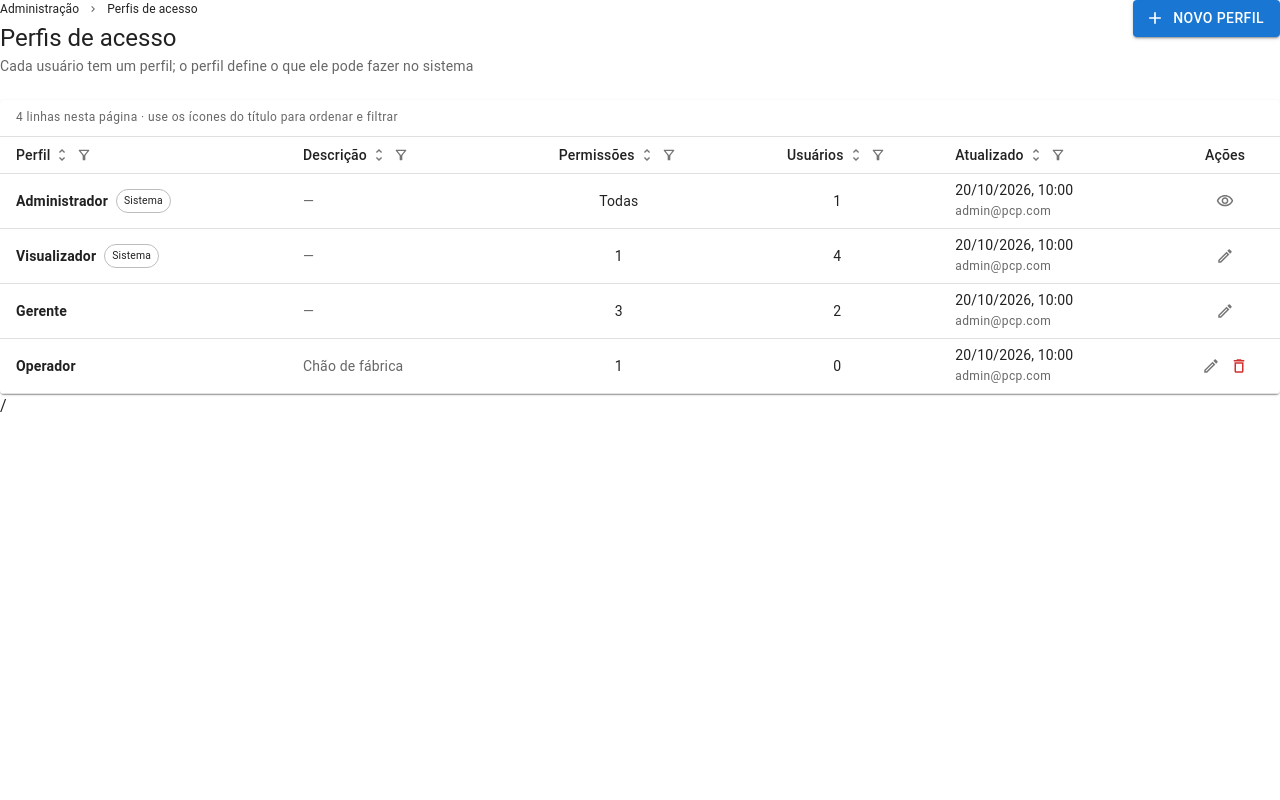
PerfisAcessoPage › o Administrador abre só para leitura, com aviso, sem botão de salvar
Step 1. Click the button named "Ver perfil Administrador" → click(1225, 201), box [1211,187,1239,215]
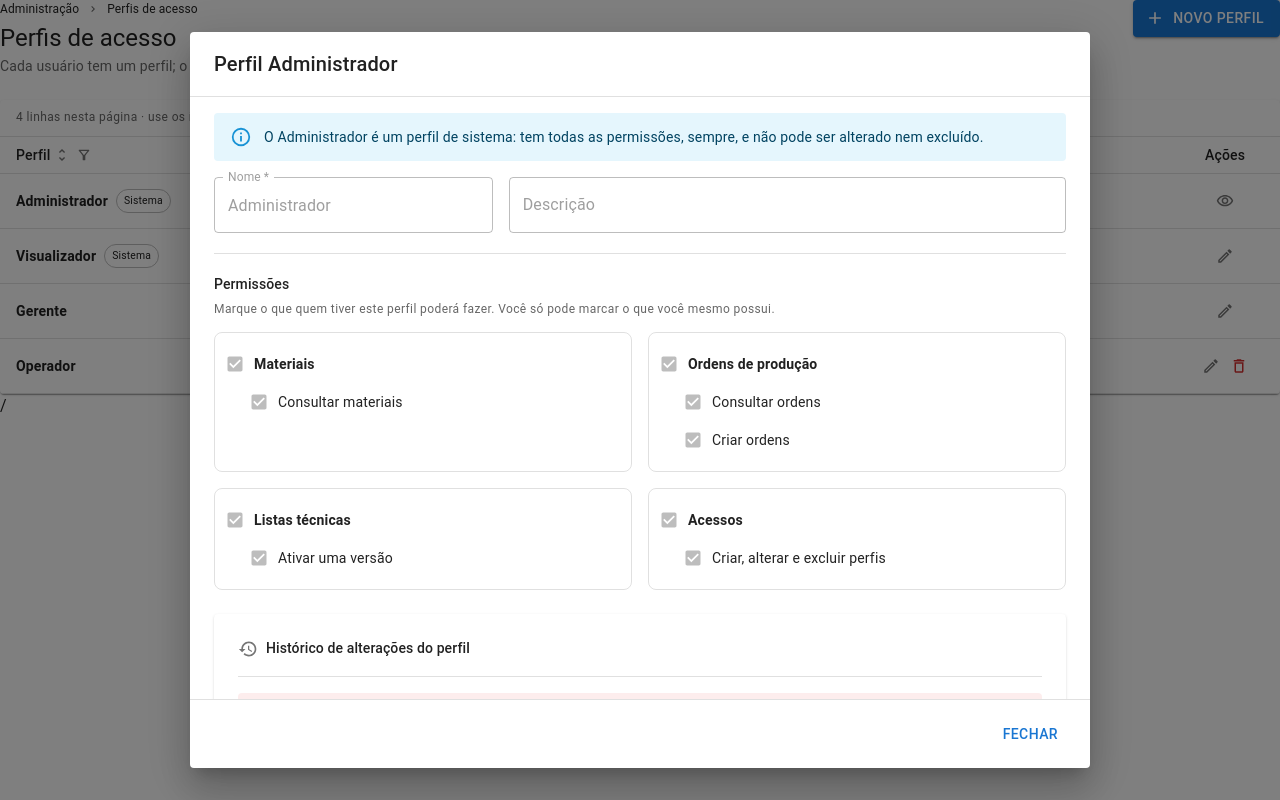
Check: the text "perfil de sistema: tem todas as permissões" is shown, box [264,129,984,145]
Check: the field labelled "Nome *" is disabled, box [214,177,493,233]
